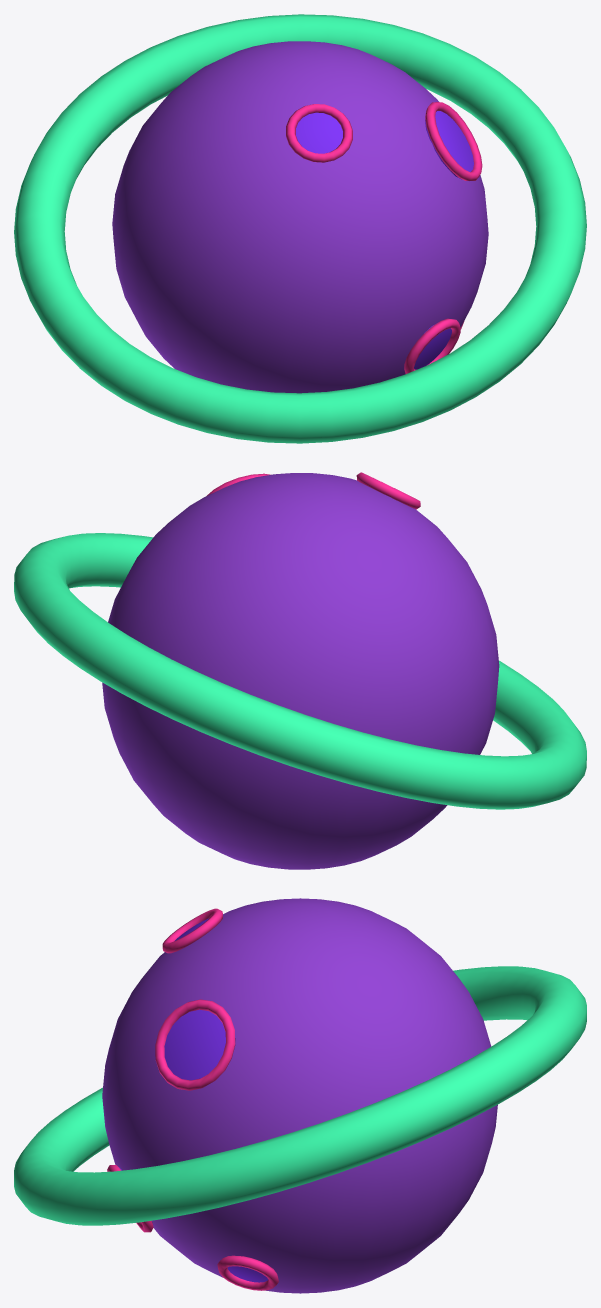
The model's file is Orbital_Planet.fbx.
The picture shows the model from 3 angles, top to bottom: view 1: azimuth 30°, elevation 25°; view 2: azimuth 150°, elevation 25°; view 3: azimuth 270°, elevation 25°; orthographic projection. The views are drawn at different scales.
Parts seen in each view (by area): view 1: Orbit, Neon_Mint, Neon_Magenta, Violet; view 2: Orbit, Neon_Mint, Neon_Magenta; view 3: Orbit, Neon_Mint, Neon_Magenta, Violet.
Boxes of the visible parts, <box> form: Orbit: <box>112,41,488,393</box>; Neon_Mint: <box>14,14,586,443</box>; Neon_Magenta: <box>286,102,482,373</box>; Violet: <box>296,111,473,369</box>; Orbit: <box>102,473,499,869</box>; Neon_Mint: <box>14,533,586,809</box>; Neon_Magenta: <box>207,472,420,509</box>; Orbit: <box>102,898,497,1293</box>; Neon_Mint: <box>14,966,586,1225</box>; Neon_Magenta: <box>107,908,278,1290</box>; Violet: <box>118,918,268,1282</box>.
Size of the model in its own units: 18.57 by 12.48 by 18.03.
